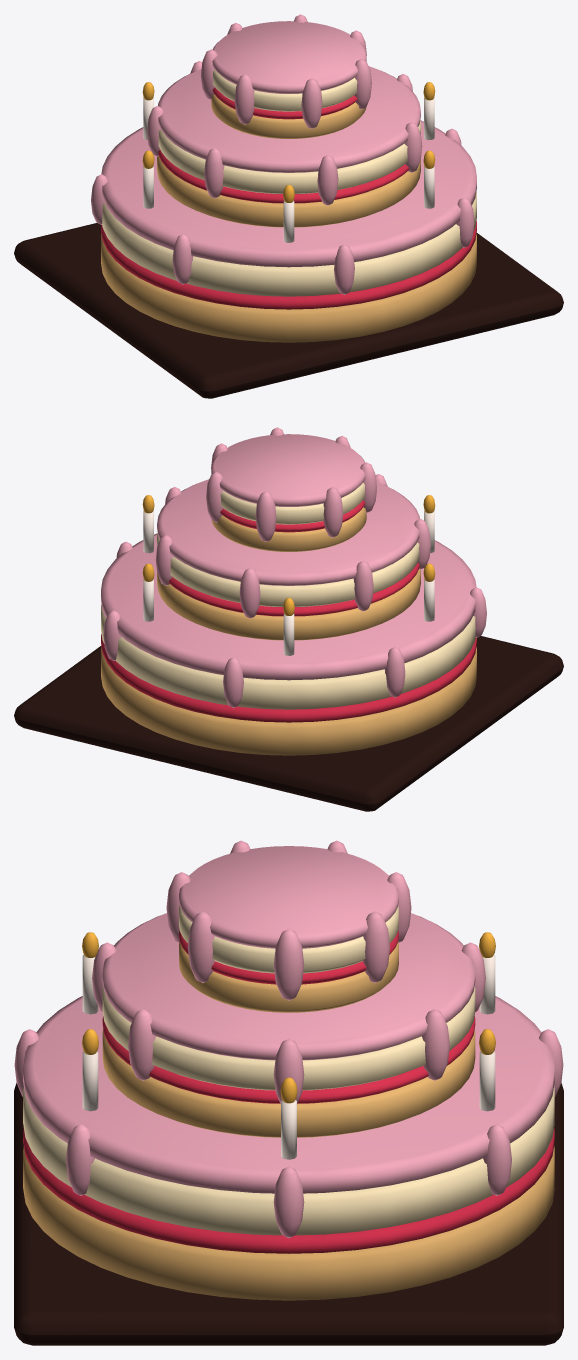
The model's file is altar-base.glb.
The picture shows the model from 3 angles, top to bottom: view 1: azimuth 30°, elevation 25°; view 2: azimuth 150°, elevation 25°; view 3: azimuth 270°, elevation 25°; orthographic projection. The views are drawn at different scales.
Parts seen in each view (by area): view 1: Chocolate board, Confectionery tier.003, Confectionery tier, Confectionery tier.007, Confectionery tier.002, Confectionery tier.011, Confectionery tier.004, Confectionery tier.001, Confectionery tier.006, Confectionery tier.008, Confectionery tier.005, Confectionery tier.010 (+14 smaller); view 2: Chocolate board, Confectionery tier.003, Confectionery tier, Confectionery tier.007, Confectionery tier.002, Confectionery tier.011, Confectionery tier.004, Confectionery tier.001, Confectionery tier.006, Confectionery tier.008, Confectionery tier.005, Confectionery tier.010 (+14 smaller); view 3: Chocolate board, Confectionery tier.003, Confectionery tier, Confectionery tier.007, Confectionery tier.002, Confectionery tier.011, Confectionery tier.004, Confectionery tier.001, Confectionery tier.006, Confectionery tier.008, Confectionery tier.005, Confectionery tier.010 (+21 smaller).
Boxes of the visible parts, x1,y1,x2,y2 form: Chocolate board: (14,223,563,398); Confectionery tier.003: (101,120,476,267); Confectionery tier: (101,234,476,342); Confectionery tier.007: (158,66,420,172); Confectionery tier.002: (102,191,476,296); Confectionery tier.011: (212,21,366,93); Confectionery tier.004: (157,156,420,227); Confectionery tier.001: (101,221,476,309); Confectionery tier.006: (158,120,420,193); Confectionery tier.008: (211,94,366,138); Confectionery tier.005: (158,150,409,203); Confectionery tier.010: (213,70,357,111); Chocolate board: (14,636,563,811); Confectionery tier.003: (101,533,476,680); Confectionery tier: (101,647,476,755); Confectionery tier.007: (157,479,419,585); Confectionery tier.002: (101,604,475,709); Confectionery tier.011: (211,434,365,506); Confectionery tier.004: (157,569,420,640); Confectionery tier.001: (101,634,476,722); Confectionery tier.006: (157,533,419,606); Confectionery tier.008: (211,507,366,551); Confectionery tier.005: (168,563,419,616); Confectionery tier.010: (220,483,364,524); Chocolate board: (14,1083,563,1345); Confectionery tier.003: (23,996,554,1193); Confectionery tier: (23,1146,554,1300); Confectionery tier.007: (102,913,475,1060); Confectionery tier.002: (23,1086,554,1235); Confectionery tier.011: (179,846,398,948); Confectionery tier.004: (102,1029,475,1137); Confectionery tier.001: (23,1128,554,1253); Confectionery tier.006: (102,986,475,1090); Confectionery tier.008: (179,941,398,1012); Confectionery tier.005: (102,1016,475,1103); Confectionery tier.010: (179,905,398,973).
Size of the model in its own units: 1.95 by 1.24 by 1.8.
